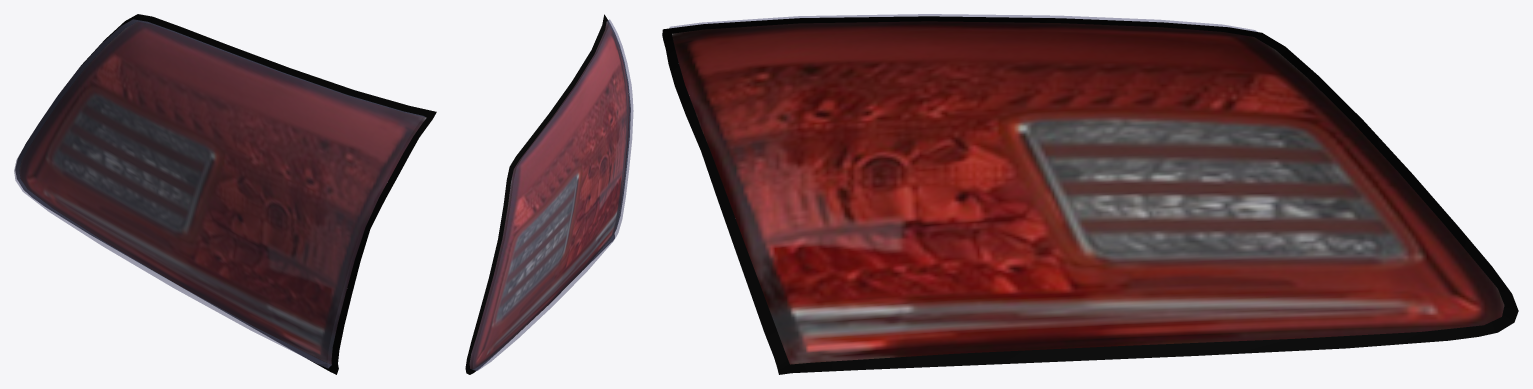
3 renders of one model, left to right at view 1: azimuth 30°, elevation 25°; view 2: azimuth 150°, elevation 25°; view 3: azimuth 270°, elevation 25°, orthographic. The views are drawn at different scales.
Visible parts, largest first — view 1: LX24_541D_R_LX24_541D_R_2_DTaSI, LX24_541D_R_LX24_541D_R_1_N, LX24_541D_R_3_D_LX24_541D_R; view 2: LX24_541D_R_LX24_541D_R_2_DTaSI, LX24_541D_R_LX24_541D_R_1_N, LX24_541D_R_3_D_LX24_541D_R; view 3: LX24_541D_R_LX24_541D_R_1_N, LX24_541D_R_3_D_LX24_541D_R, LX24_541D_R_LX24_541D_R_2_DTaSI.
Boxes of the visible parts, x1,y1,x2,y2 form: LX24_541D_R_LX24_541D_R_2_DTaSI: [14, 19, 426, 368]; LX24_541D_R_LX24_541D_R_1_N: [19, 21, 426, 364]; LX24_541D_R_3_D_LX24_541D_R: [15, 14, 436, 374]; LX24_541D_R_LX24_541D_R_2_DTaSI: [470, 19, 633, 370]; LX24_541D_R_LX24_541D_R_1_N: [469, 22, 629, 368]; LX24_541D_R_3_D_LX24_541D_R: [465, 14, 630, 374]; LX24_541D_R_LX24_541D_R_1_N: [672, 21, 1504, 364]; LX24_541D_R_3_D_LX24_541D_R: [662, 16, 1518, 374]; LX24_541D_R_LX24_541D_R_2_DTaSI: [669, 14, 1257, 31].
Size of the model in its own units: 9.9 by 22.26 by 44.8.
